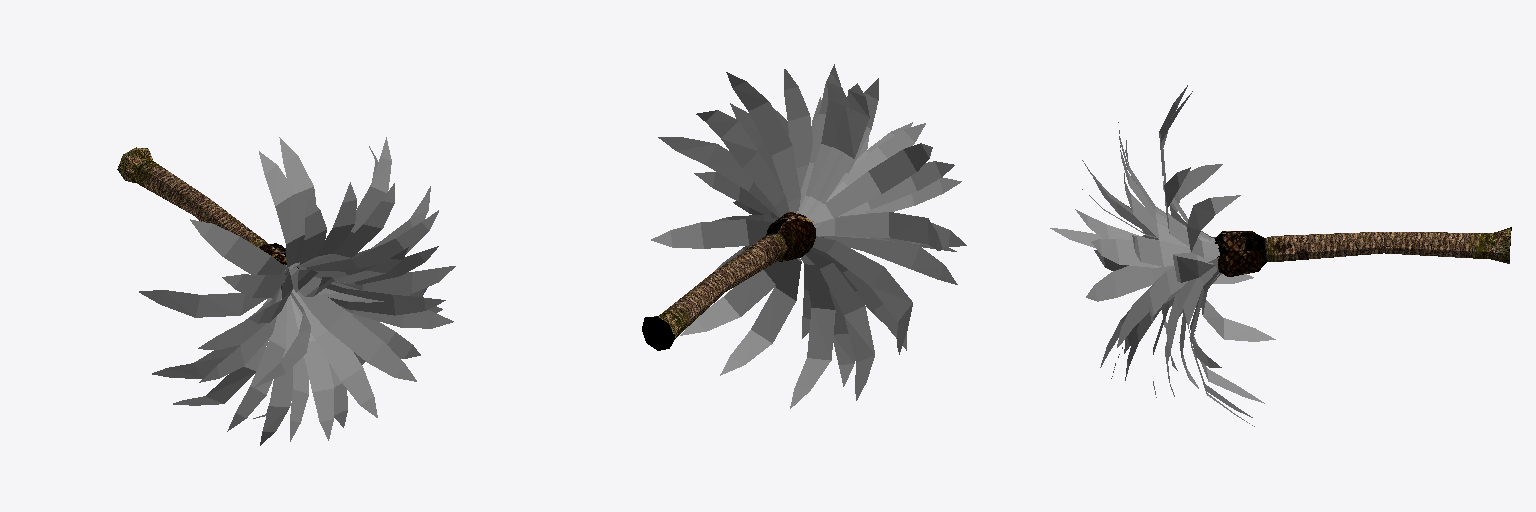
The picture shows the model from 3 angles: view 1: azimuth 30°, elevation 25°; view 2: azimuth 150°, elevation 25°; view 3: azimuth 270°, elevation 25°; orthographic projection.
Visible parts, largest first — view 1: palm_tree_01; view 2: palm_tree_01; view 3: palm_tree_01.
Part boxes in pixels (x1,y1,x2,y2): palm_tree_01: (117, 137, 455, 445); palm_tree_01: (642, 64, 966, 408); palm_tree_01: (1050, 85, 1511, 426).
Bounding box in the file's own units: 80.89 × 81.82 × 111.
Materials: 2 (1 with a texture image).